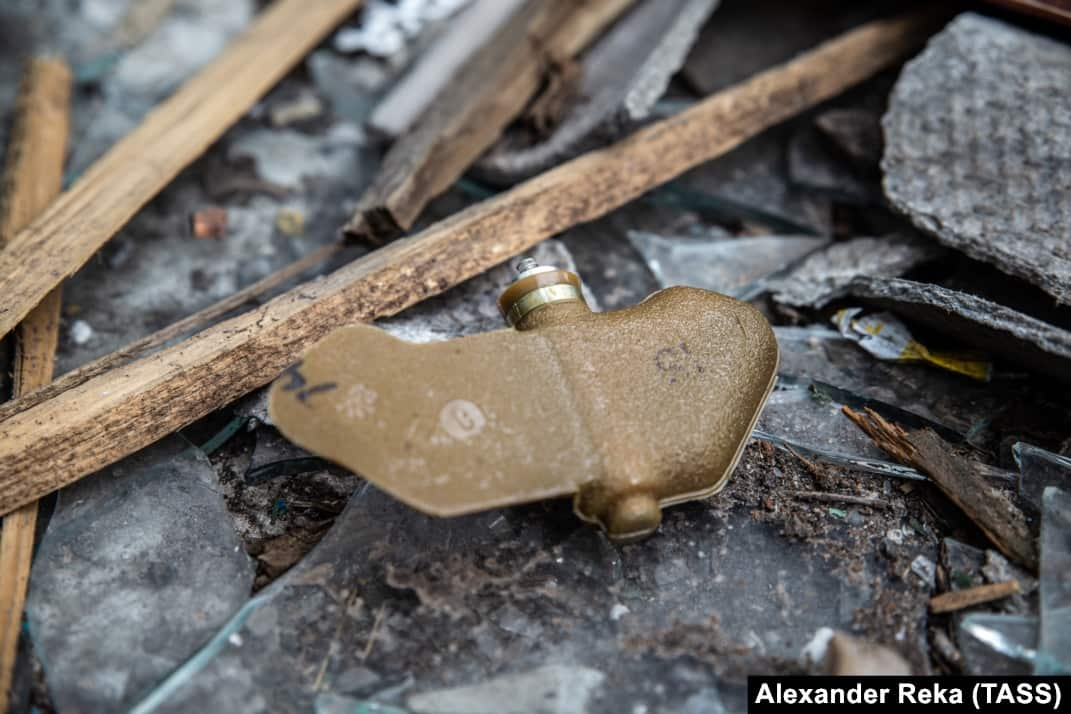butterfly: (247, 260, 792, 563)
